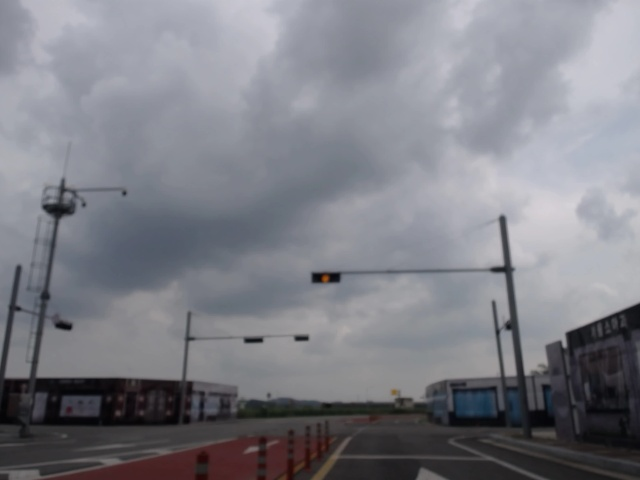orange_3: (311, 273, 340, 283)
